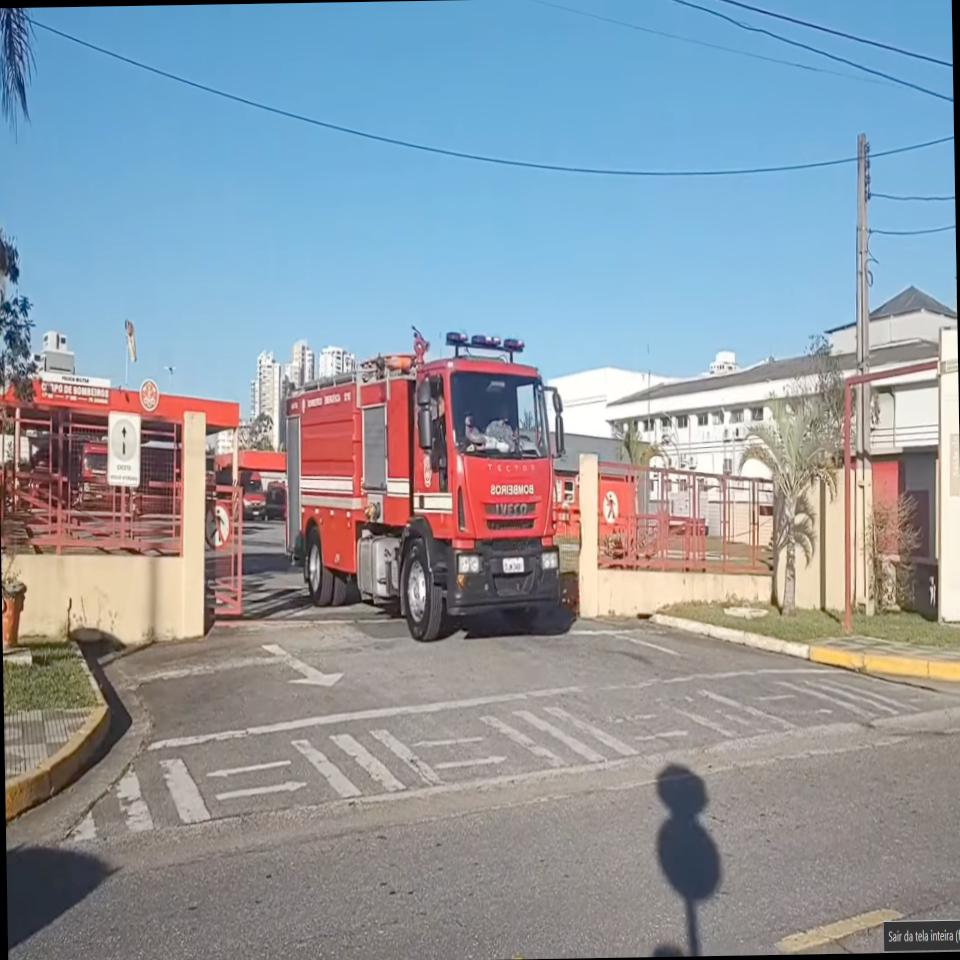viatura: (283, 328, 568, 643)
